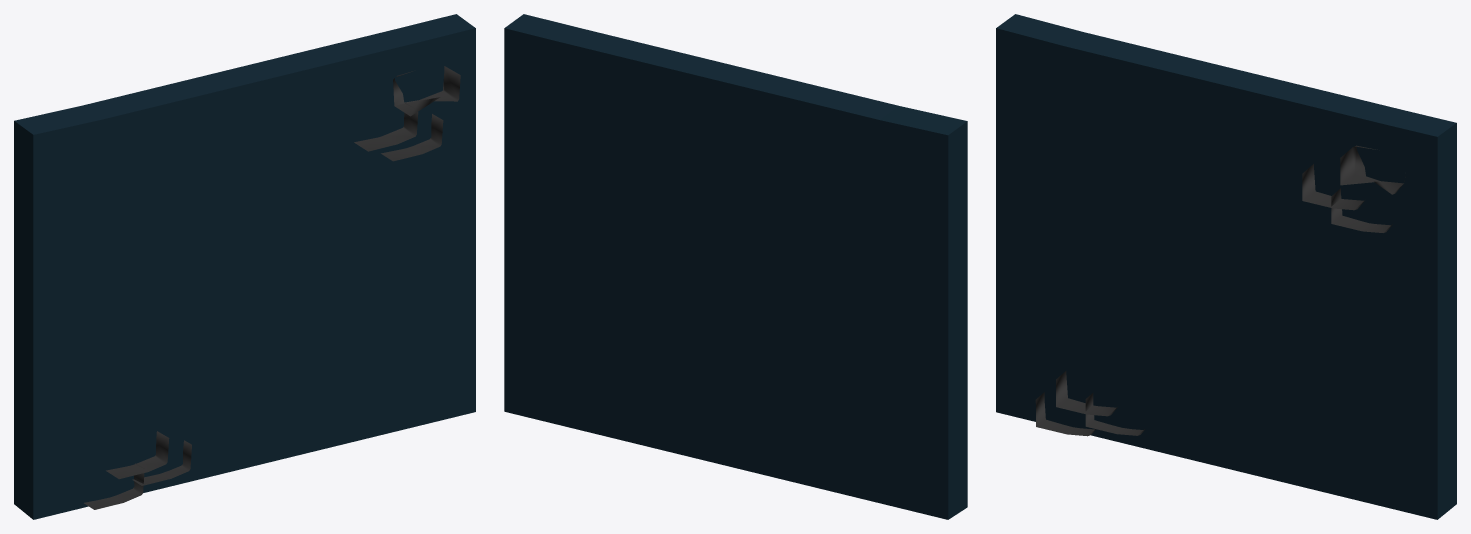
Rendered from wall No.2.fbx.
3 renders of one model, left to right at view 1: azimuth 30°, elevation 25°; view 2: azimuth 150°, elevation 25°; view 3: azimuth 330°, elevation 25°, orthographic.
Visible parts, largest first — view 1: 立方体.005; view 2: 立方体.005; view 3: 立方体.005.
Boxes of the visible parts, x1,y1,x2,y2 form: 立方体.005: (14,14,475,519); 立方体.005: (504,14,967,519); 立方体.005: (996,14,1456,519).
Bounding box in the file's own units: 691 × 575 × 96.73.
